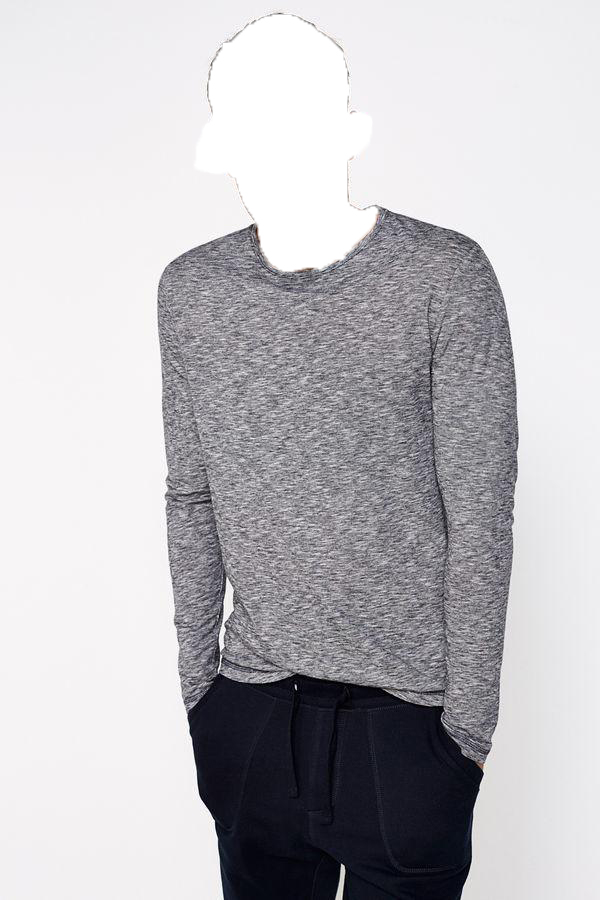teeshirt: (135, 212, 523, 781)
